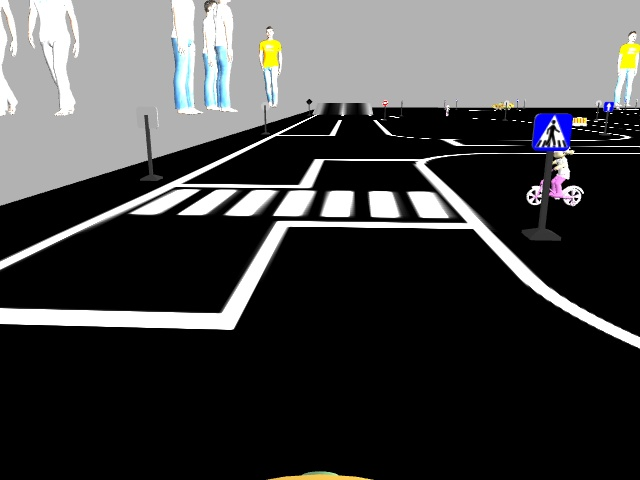Crosswalk: (532, 111, 572, 152)
Pedestrian: (526, 139, 585, 209)
